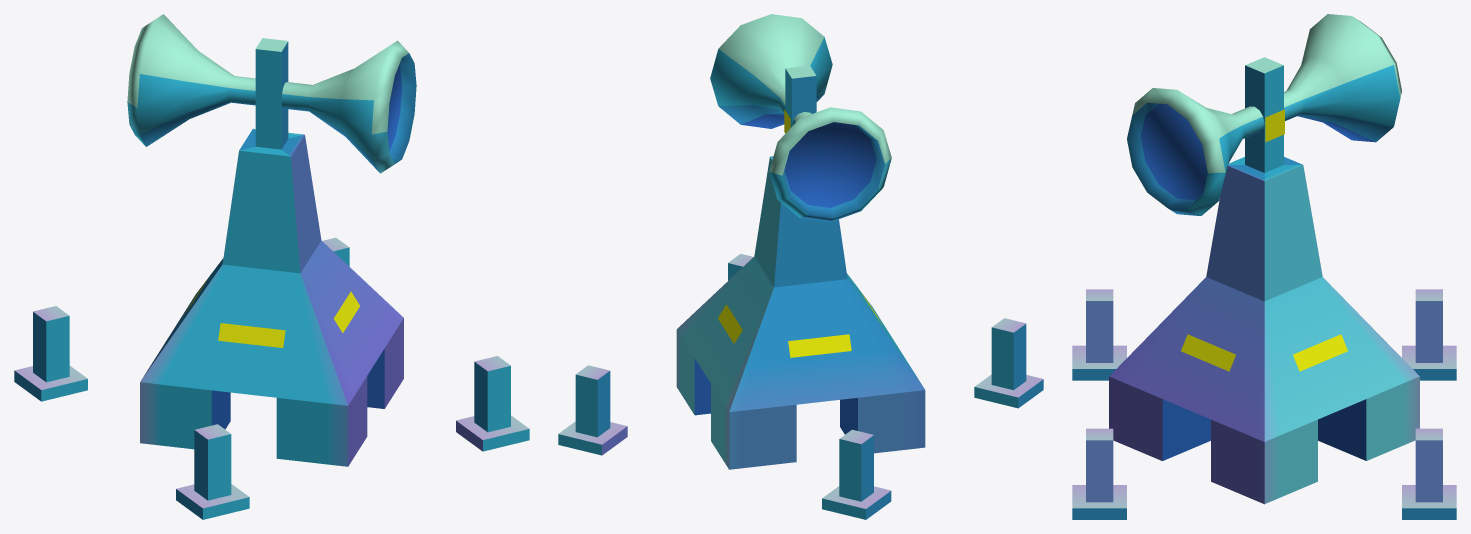
The model's file is CommTower.AzureAsteroid.glb.
The picture shows the model from 3 angles, left to right: view 1: azimuth 30°, elevation 25°; view 2: azimuth 150°, elevation 25°; view 3: azimuth 270°, elevation 25°; orthographic projection. The views are drawn at different scales.
Visible parts, largest first — view 1: CommTower.AzureAsteroid; view 2: CommTower.AzureAsteroid; view 3: CommTower.AzureAsteroid.
Part boxes in pixels (x1,y1,x2,y2): CommTower.AzureAsteroid: (14,14,529,519); CommTower.AzureAsteroid: (558,14,1043,519); CommTower.AzureAsteroid: (1072,14,1456,519).
Size of the model in its own units: 2.8 by 3.1 by 2.8.
2 materials, 1 textured.
